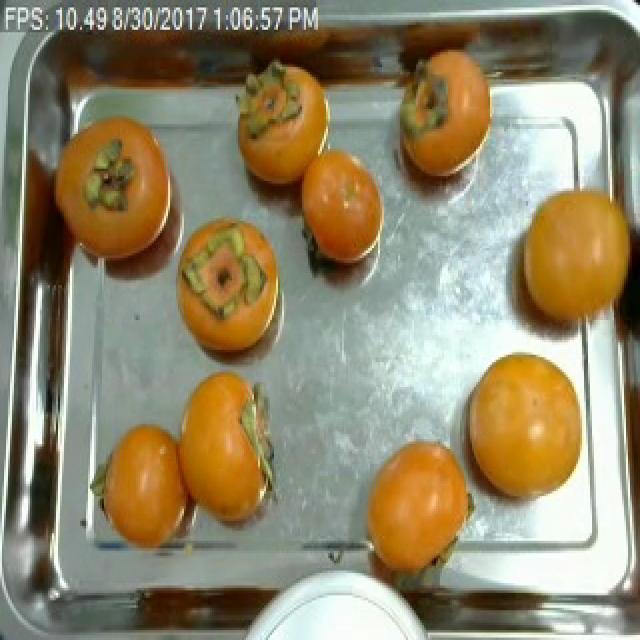Fruit: (496, 166, 636, 372), (46, 96, 186, 288), (452, 338, 588, 518), (382, 28, 506, 218), (350, 424, 486, 593), (168, 360, 282, 548), (88, 412, 210, 563), (174, 203, 284, 370), (288, 132, 396, 298), (124, 560, 290, 640)
